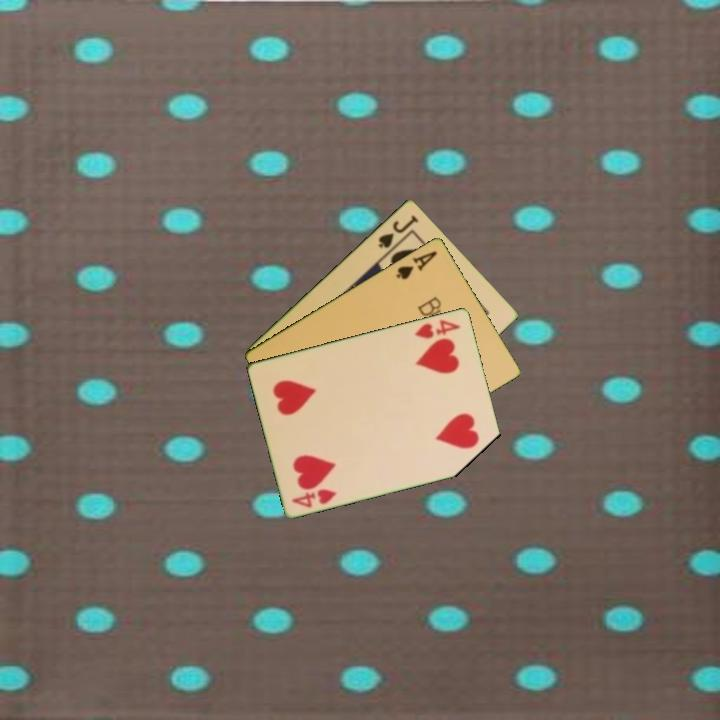4h: (411, 315, 464, 341), (288, 485, 339, 510)
As: (392, 247, 440, 282)
Js: (374, 211, 421, 251)
